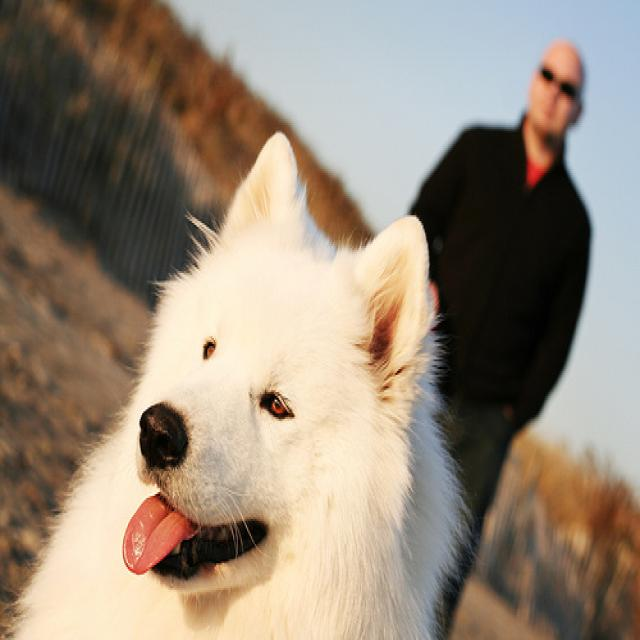dog-samoyed: (18, 117, 466, 636)
